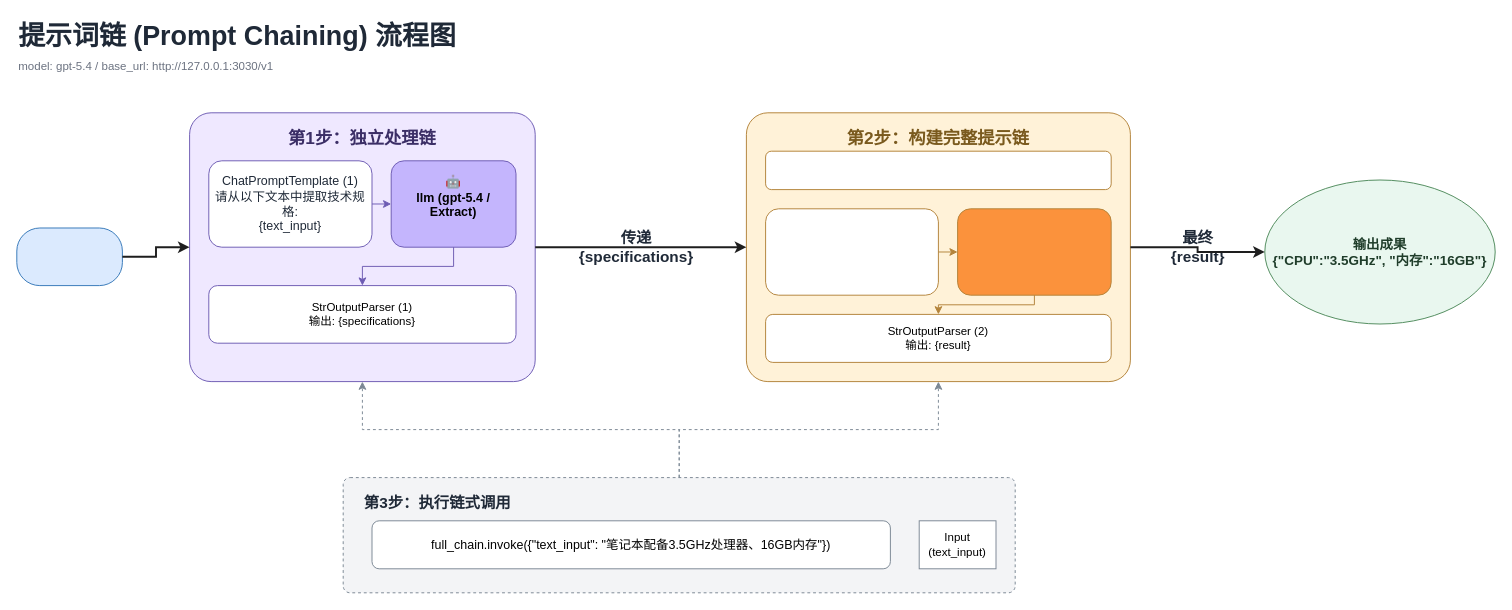
This 1512x610 diagram has some shape labels left out. The centre of each missing label's shape, as x and y in pixels:
ChatPromptTemplate (2) 请将以下技术规格转为 JSON: {specifications}: pixel 851 251
{"specifications": extraction_chain}: pixel 938 170
开始: pixel 69 256
🤖 llm (gpt-5.4 / JSON Convert): pixel 1034 251
